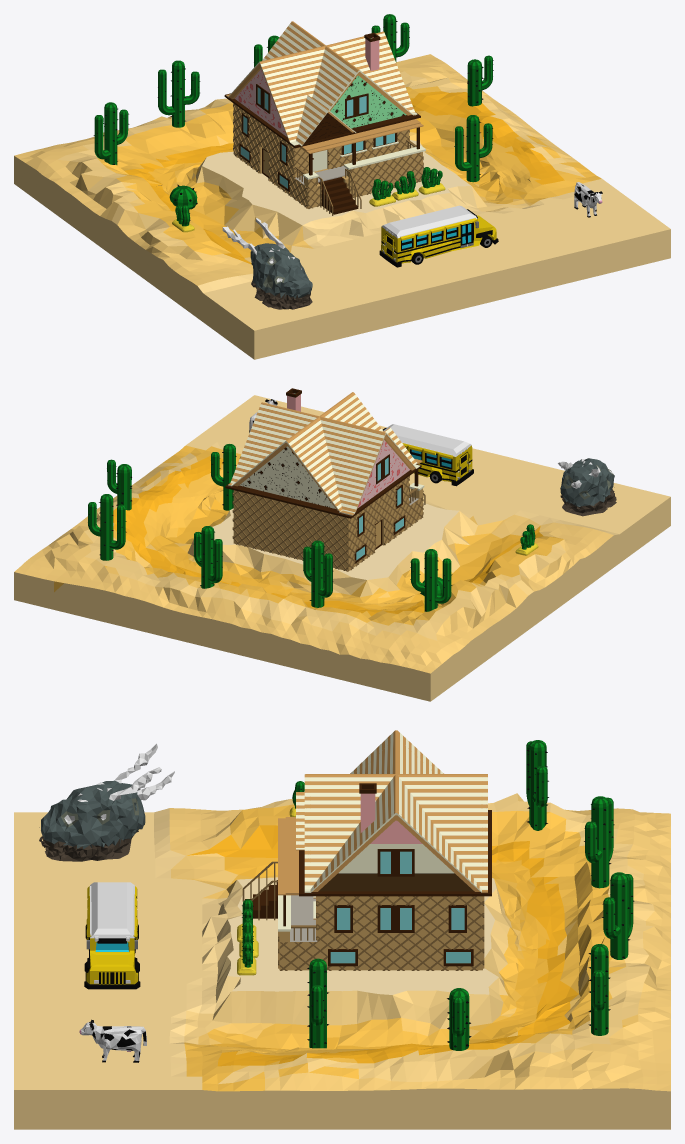
3 views of the same model, one above another, from view 1: azimuth 30°, elevation 25°; view 2: azimuth 150°, elevation 25°; view 3: azimuth 270°, elevation 25° (orthographic). The views are drawn at different scales.
Visible parts, largest first — view 1: Cube.001, Cube.1102, VEHICLES_SCHOOL_BUS, OBJRANDOM_METEORITE, Cylinder.037, Cylinder.044, Cylinder.045, Cylinder.038, Cylinder.042, ANIMAL_VACA, Cylinder.039, Cylinder.041 (+2 smaller); view 2: Cube.001, Cube.1102, VEHICLES_SCHOOL_BUS, OBJRANDOM_METEORITE, Cylinder.042, Cylinder.045, Cylinder.044, Cylinder.043, Cylinder.037, Cylinder.038; view 3: Cube.001, Cube.1102, OBJRANDOM_METEORITE, VEHICLES_SCHOOL_BUS, Cylinder.043, Cylinder.044, Cylinder.045, Cylinder.042, Cylinder.037, ANIMAL_VACA, Cylinder.038, Cylinder.041.
Boxes of the visible parts, x1=… form: Cube.001: x1=14, y1=54, x2=670, y2=359; Cube.1102: x1=224, y1=21, x2=425, y2=215; VEHICLES_SCHOOL_BUS: x1=379, y1=205, x2=498, y2=267; OBJRANDOM_METEORITE: x1=222, y1=218, x2=312, y2=309; Cylinder.037: x1=454, y1=115, x2=493, y2=182; Cylinder.044: x1=157, y1=60, x2=200, y2=127; Cylinder.045: x1=93, y1=102, x2=129, y2=164; Cylinder.038: x1=467, y1=55, x2=493, y2=106; Cylinder.042: x1=371, y1=14, x2=409, y2=62; ANIMAL_VACA: x1=574, y1=182, x2=602, y2=217; Cylinder.039: x1=369, y1=179, x2=395, y2=206; Cylinder.041: x1=418, y1=167, x2=445, y2=194; Cube.001: x1=14, y1=395, x2=670, y2=701; Cube.1102: x1=225, y1=388, x2=425, y2=571; VEHICLES_SCHOOL_BUS: x1=383, y1=424, x2=473, y2=486; OBJRANDOM_METEORITE: x1=558, y1=458, x2=616, y2=516; Cylinder.042: x1=88, y1=494, x2=126, y2=560; Cylinder.045: x1=410, y1=549, x2=452, y2=611; Cylinder.044: x1=303, y1=540, x2=333, y2=607; Cylinder.043: x1=193, y1=526, x2=222, y2=588; Cylinder.037: x1=211, y1=444, x2=240, y2=510; Cylinder.038: x1=107, y1=459, x2=131, y2=510; Cube.001: x1=14, y1=793, x2=670, y2=1129; Cube.1102: x1=242, y1=730, x2=491, y2=970; OBJRANDOM_METEORITE: x1=39, y1=743, x2=174, y2=861; VEHICLES_SCHOOL_BUS: x1=84, y1=882, x2=140, y2=989; Cylinder.043: x1=602, y1=872, x2=634, y2=959; Cylinder.044: x1=584, y1=796, x2=614, y2=888; Cylinder.045: x1=526, y1=740, x2=548, y2=830; Cylinder.042: x1=588, y1=944, x2=610, y2=1035; Cylinder.037: x1=307, y1=958, x2=328, y2=1048; ANIMAL_VACA: x1=79, y1=1019, x2=146, y2=1062; Cylinder.038: x1=447, y1=988, x2=471, y2=1050; Cylinder.041: x1=237, y1=932, x2=256, y2=975.
Size of the model in its own units: 4002 by 1577 by 4001.
Materials: 31 (4 with a texture image).
